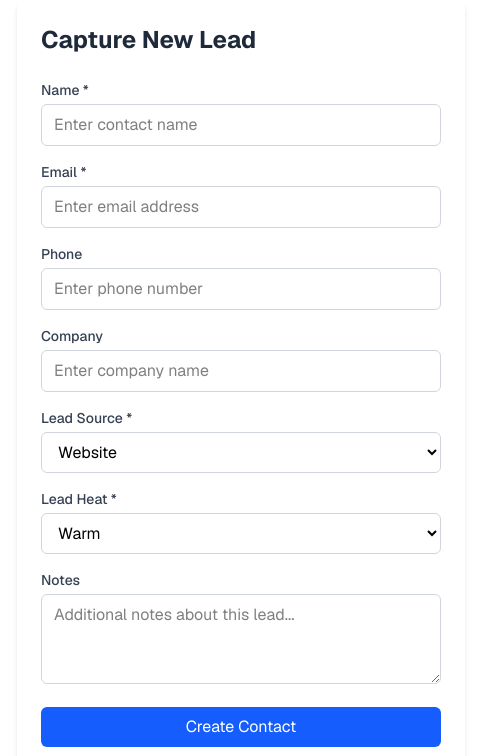
Test: LeadCaptureForm › validates required fields
This screenshot has width=483, height=756.
Click the button "Create Contact" at (241, 727), box [41,707,441,747]
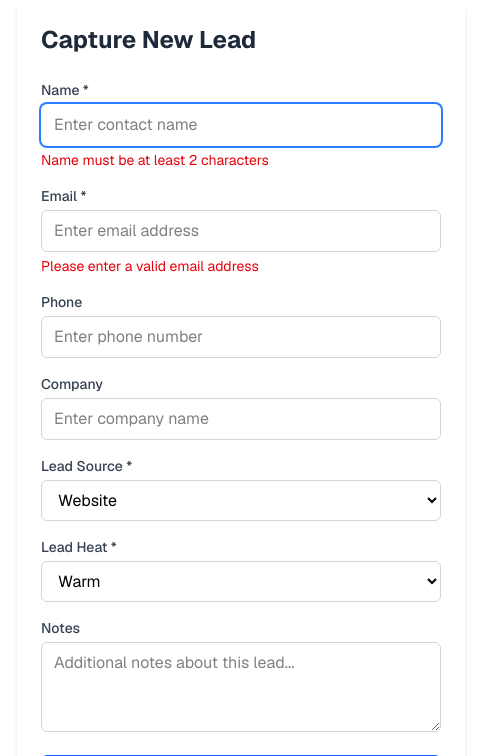
Expected: the text "Name must be at least 2 characters" is shown, [41,151,269,169]
Expected: the text "Please enter a valid email address" is shown, [41,257,259,275]
